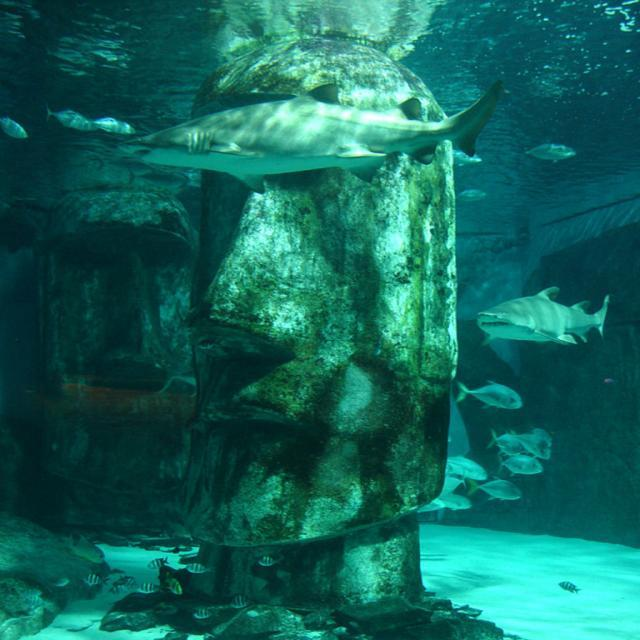Shark: (120, 78, 504, 192)
